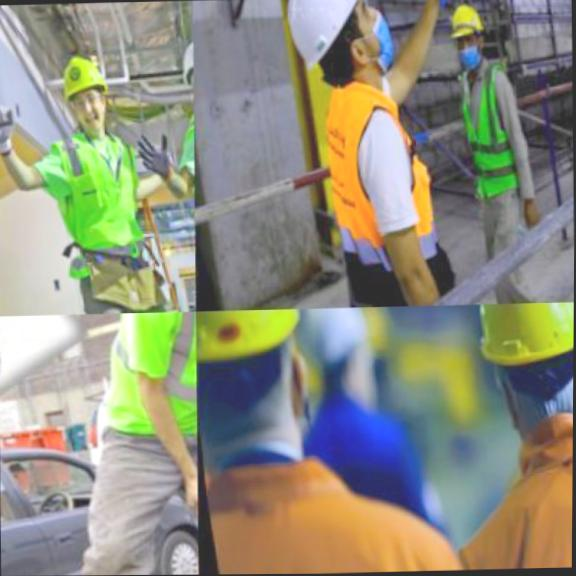safety_vest: (196, 407, 455, 575), (299, 70, 448, 307), (437, 395, 573, 570), (68, 311, 198, 441), (49, 116, 152, 269), (441, 60, 512, 195), (169, 106, 196, 255)
